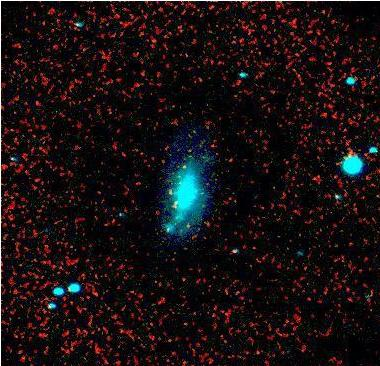star: (172, 154, 202, 184)
